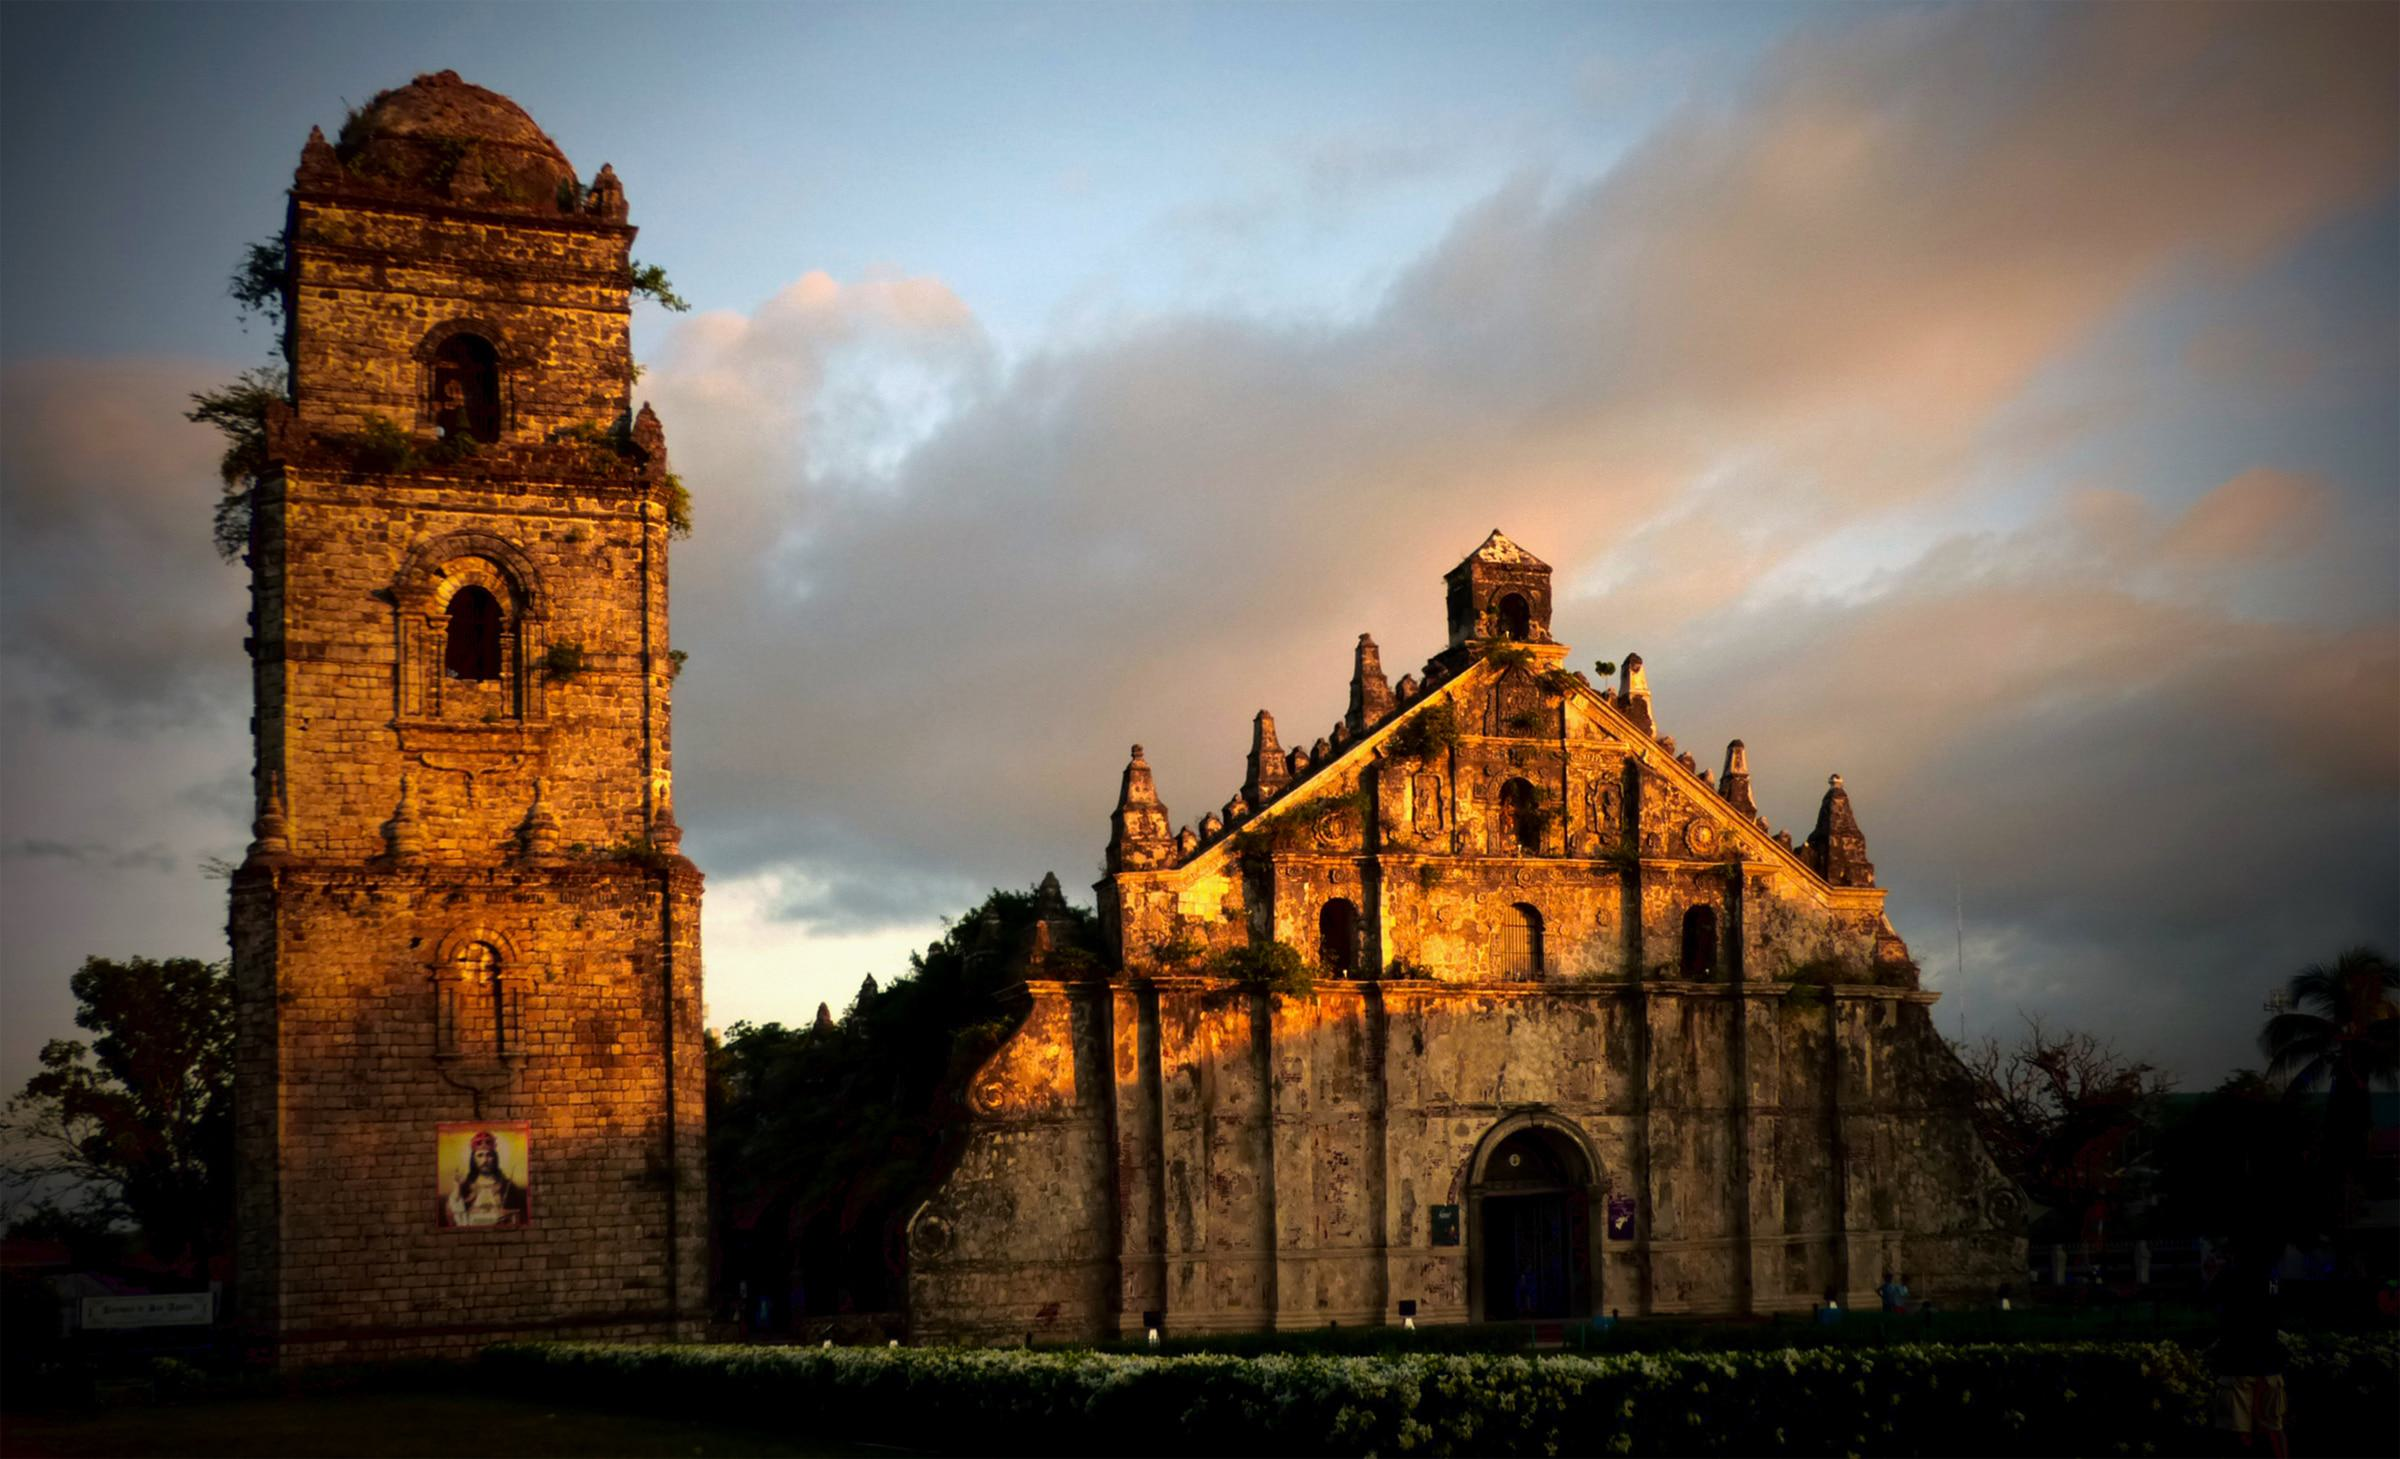Environmental Damage: (194, 386, 427, 485), (225, 231, 322, 324), (1210, 931, 1320, 1006), (603, 250, 694, 333)
Paoay Church: (197, 53, 2045, 1310)
